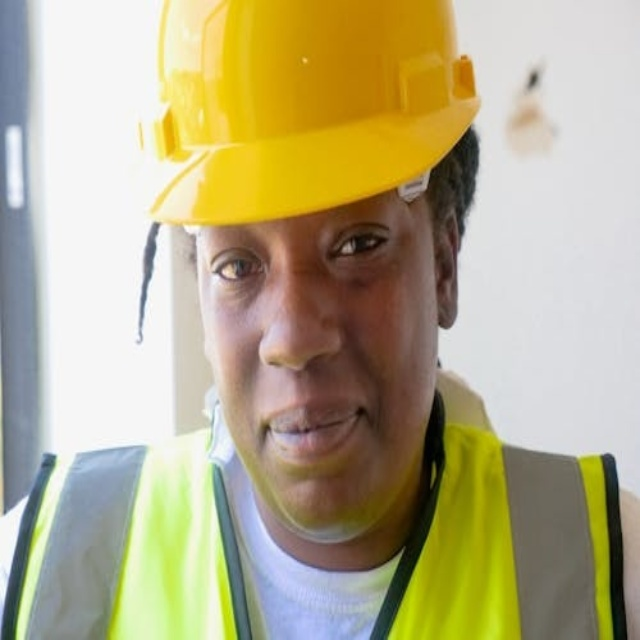Sin_gafas: (198, 207, 407, 311)
Sin_mascara: (243, 386, 383, 521)
